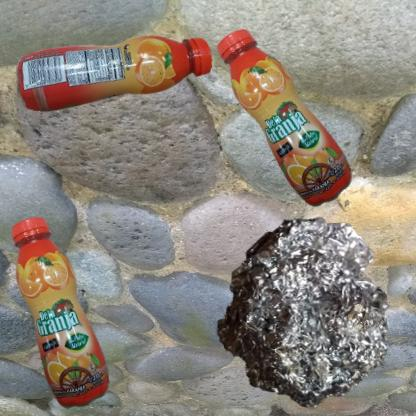aluminio: (213, 213, 392, 412)
botella: (213, 10, 386, 265), (10, 10, 233, 147), (10, 213, 114, 416)
